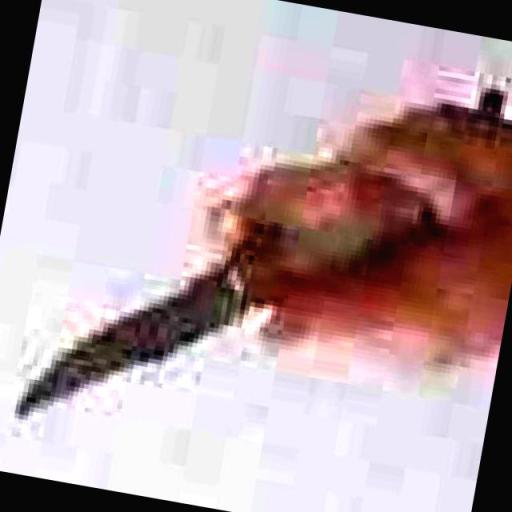knife: (0, 62, 465, 498)
